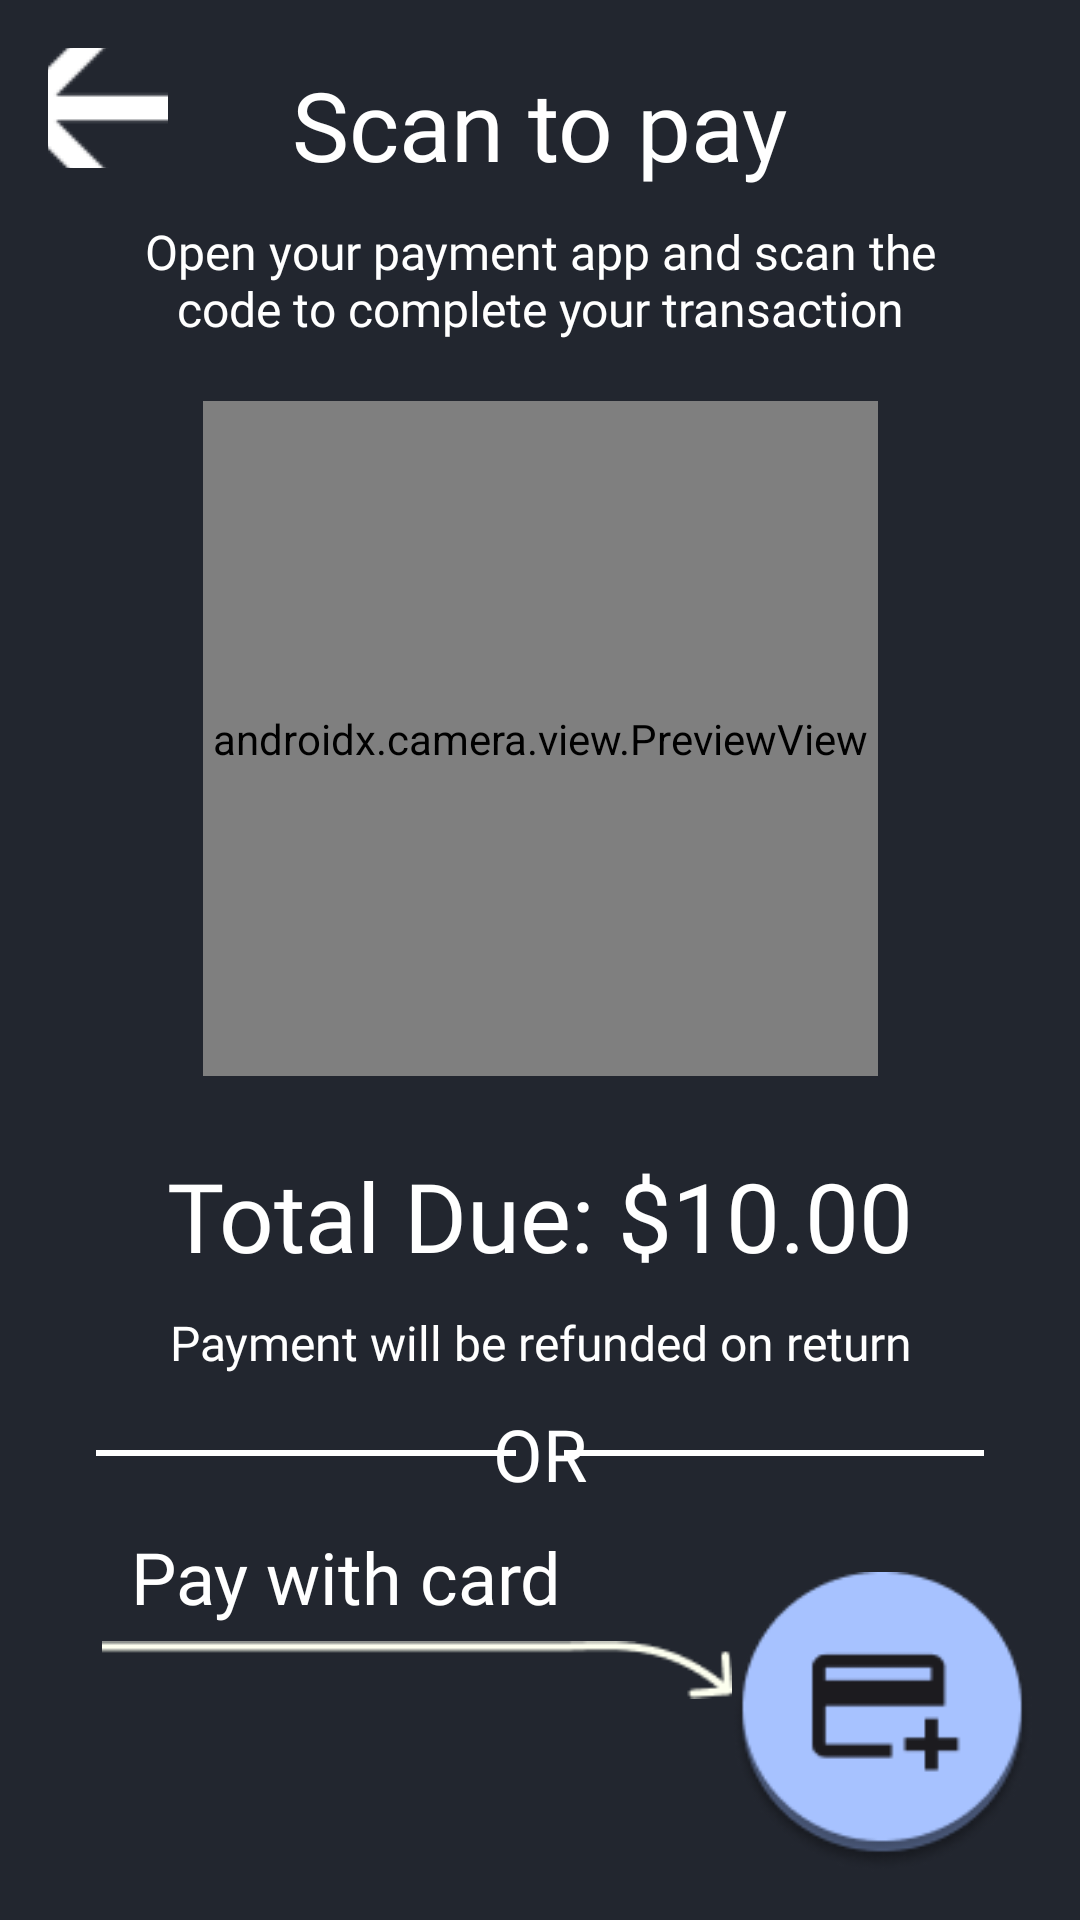

Screen size 1080×1920. Icon name, then its center in pixels as (x,y):
Back: (108,108)
